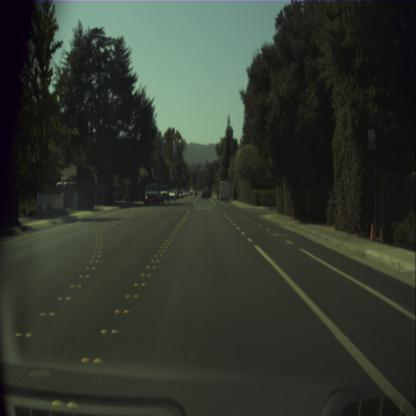Green: (203, 173, 205, 178)
